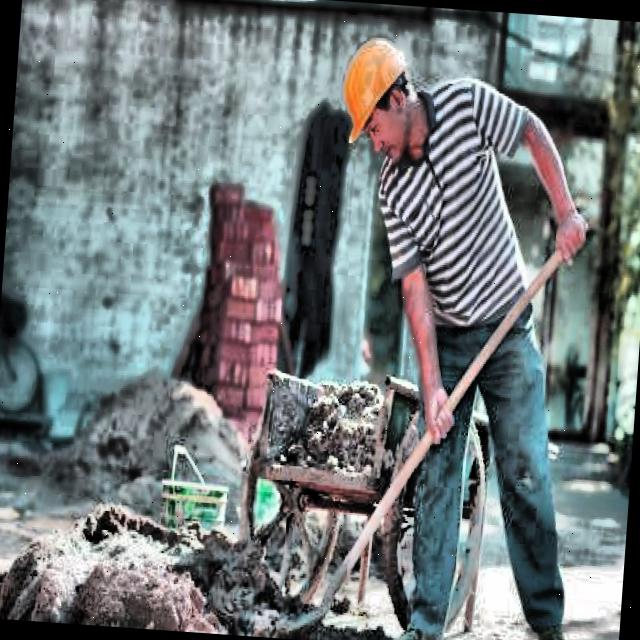helmet: (332, 27, 432, 170)
